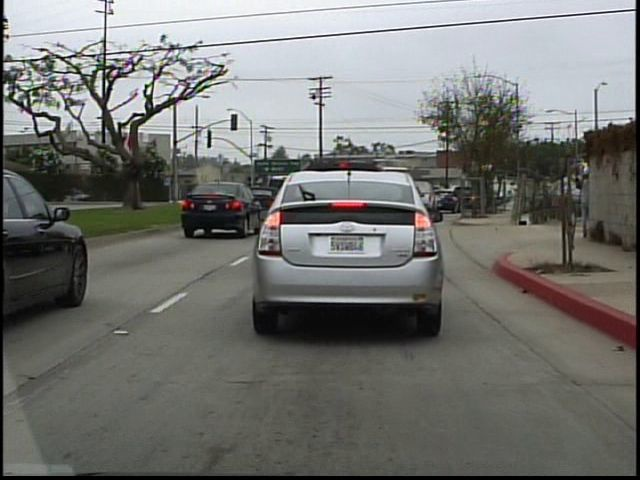person: (573, 161, 597, 244)
